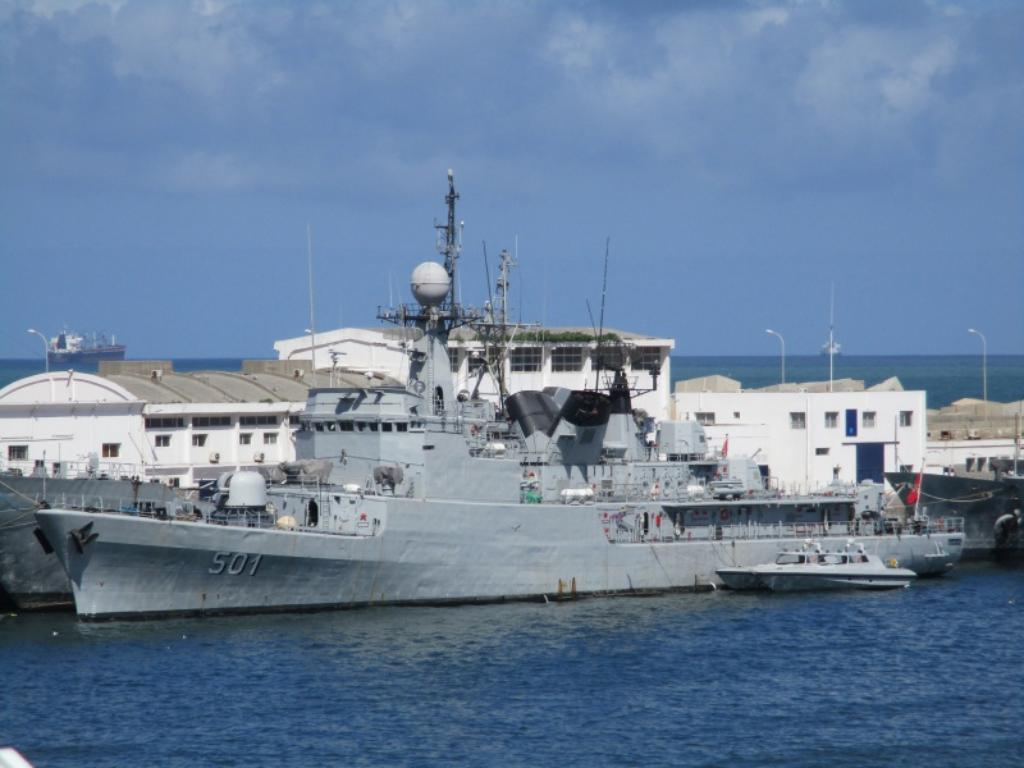Warship: (35, 163, 969, 623)
